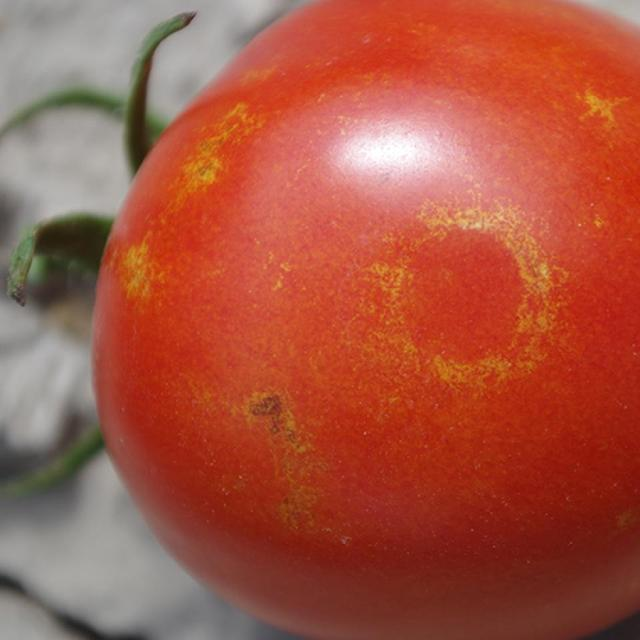Spotted wilt Virus Fruit: (126, 0, 307, 9)
